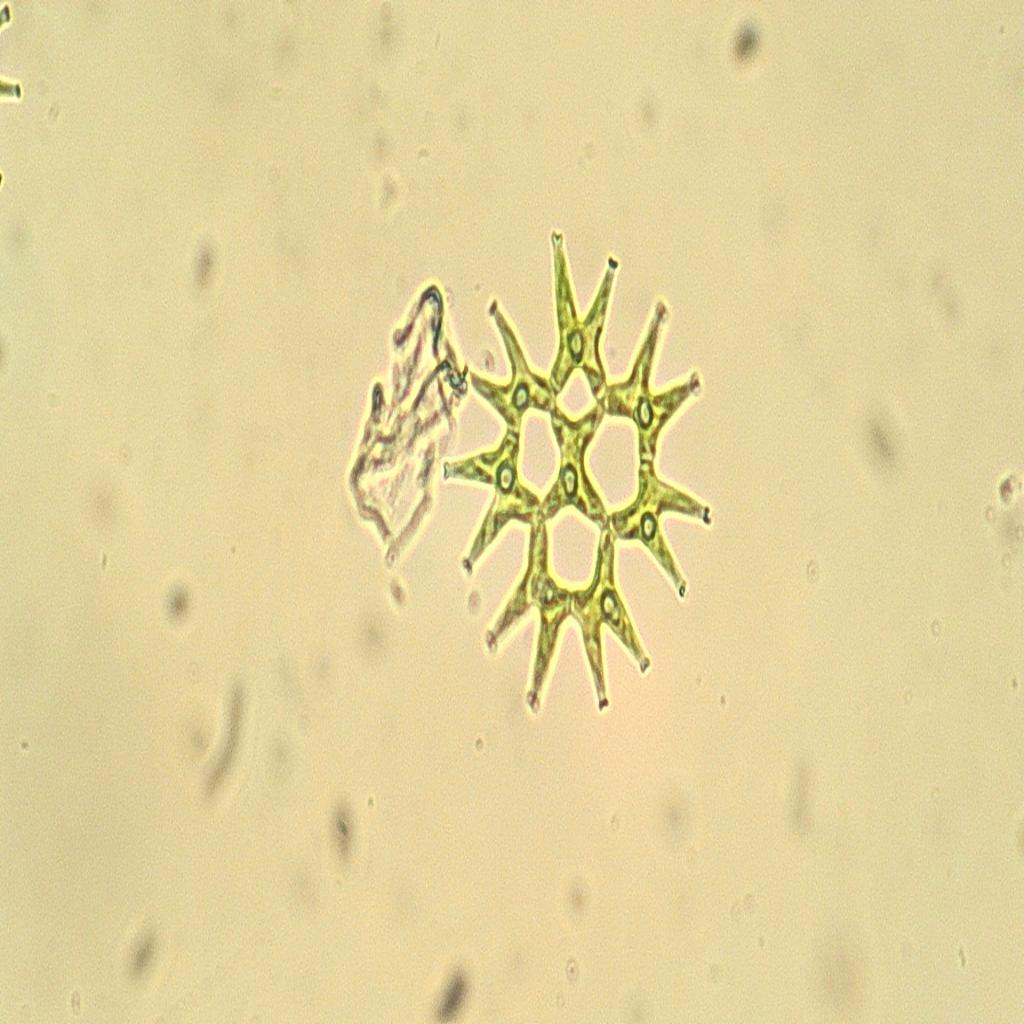Pediastrum_75T: (434, 218, 718, 724)
